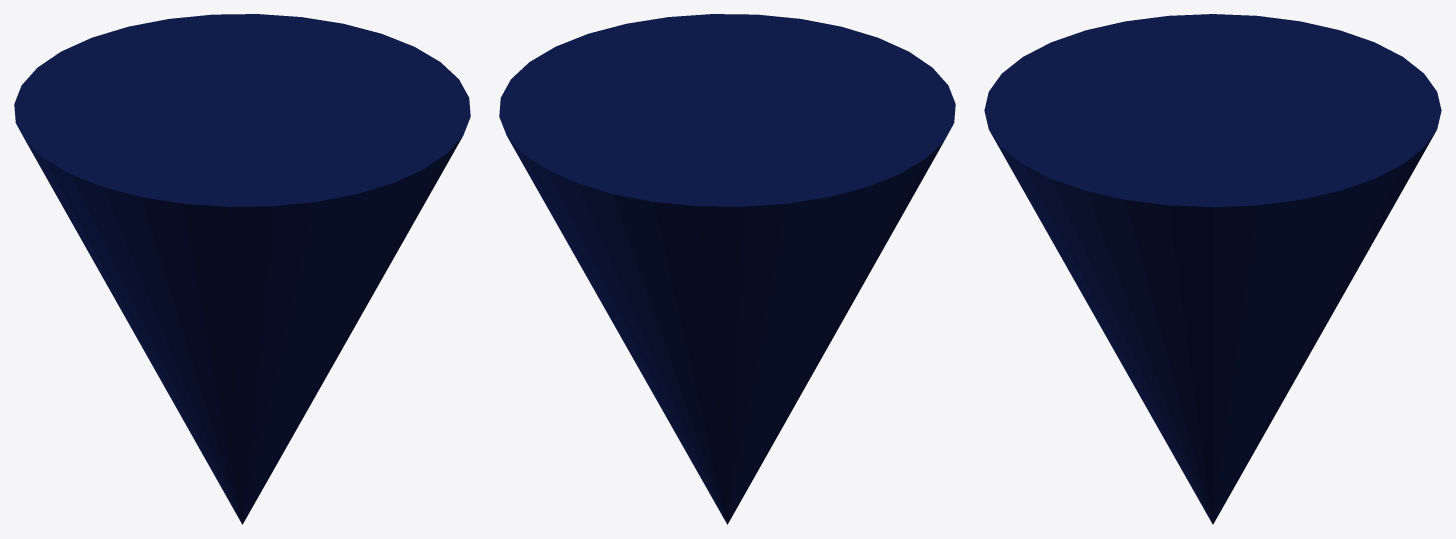
File: trou.glb
3 views of the same model, side by side, from view 1: azimuth 30°, elevation 25°; view 2: azimuth 150°, elevation 25°; view 3: azimuth 270°, elevation 25° (orthographic).
Visible parts, largest first — view 1: Cône; view 2: Cône; view 3: Cône.
Boxes of the visible parts, bbox=[...] form: Cône: bbox=[14, 14, 470, 524]; Cône: bbox=[499, 14, 955, 524]; Cône: bbox=[984, 14, 1441, 524].
Bounding box in the file's own units: 2 × 2 × 2.
